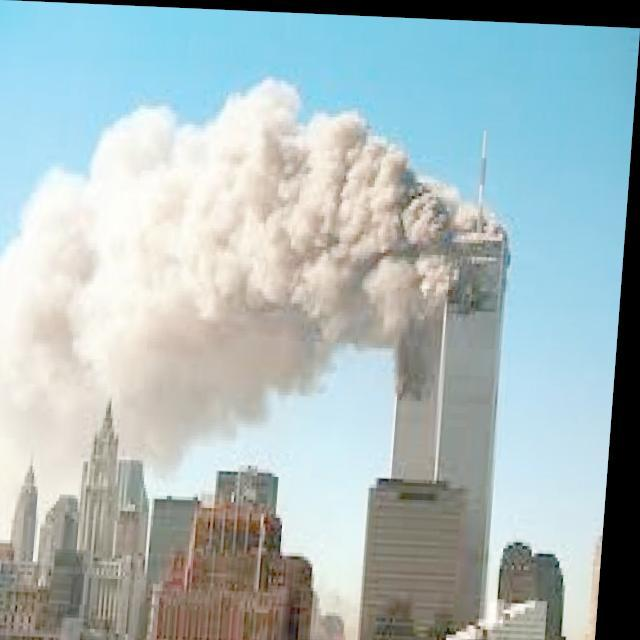Smoke: (0, 64, 515, 493)
